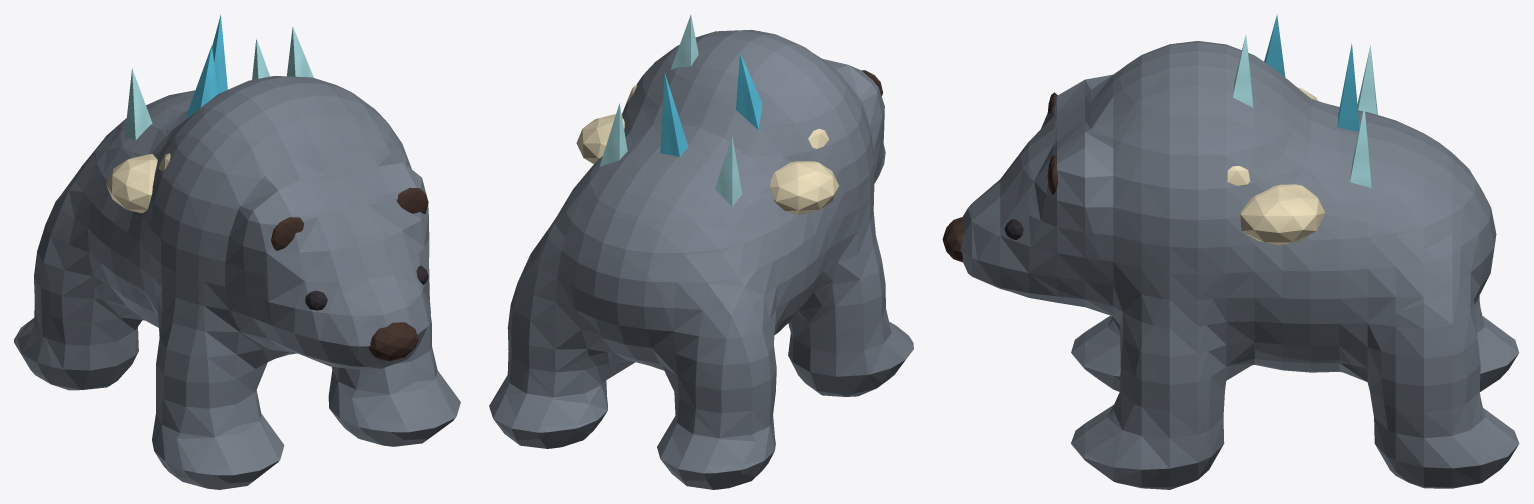
Rendered from alfabeer.glb.
The picture shows the model from 3 angles, left to right: view 1: azimuth 30°, elevation 25°; view 2: azimuth 150°, elevation 25°; view 3: azimuth 270°, elevation 25°; orthographic projection. The views are drawn at different scales.
Visible parts, largest first — view 1: world; view 2: world; view 3: world.
Boxes of the visible parts, left/top/right/bottom form: world: left=14, top=14, right=460, bottom=489; world: left=489, top=14, right=913, bottom=489; world: left=942, top=14, right=1519, bottom=489.
Bounding box in the file's own units: 1.51 × 2 × 2.47.
Materials: 1 (1 with a texture image).
